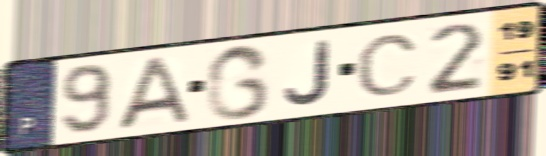2: (423, 20, 488, 97)
9: (58, 62, 116, 137)
A: (115, 54, 192, 133)
C: (354, 32, 422, 98)
G: (202, 41, 272, 122)
J: (281, 37, 333, 108)
